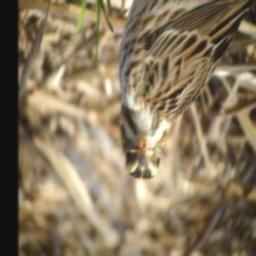Sparrow: (116, 0, 256, 182)
